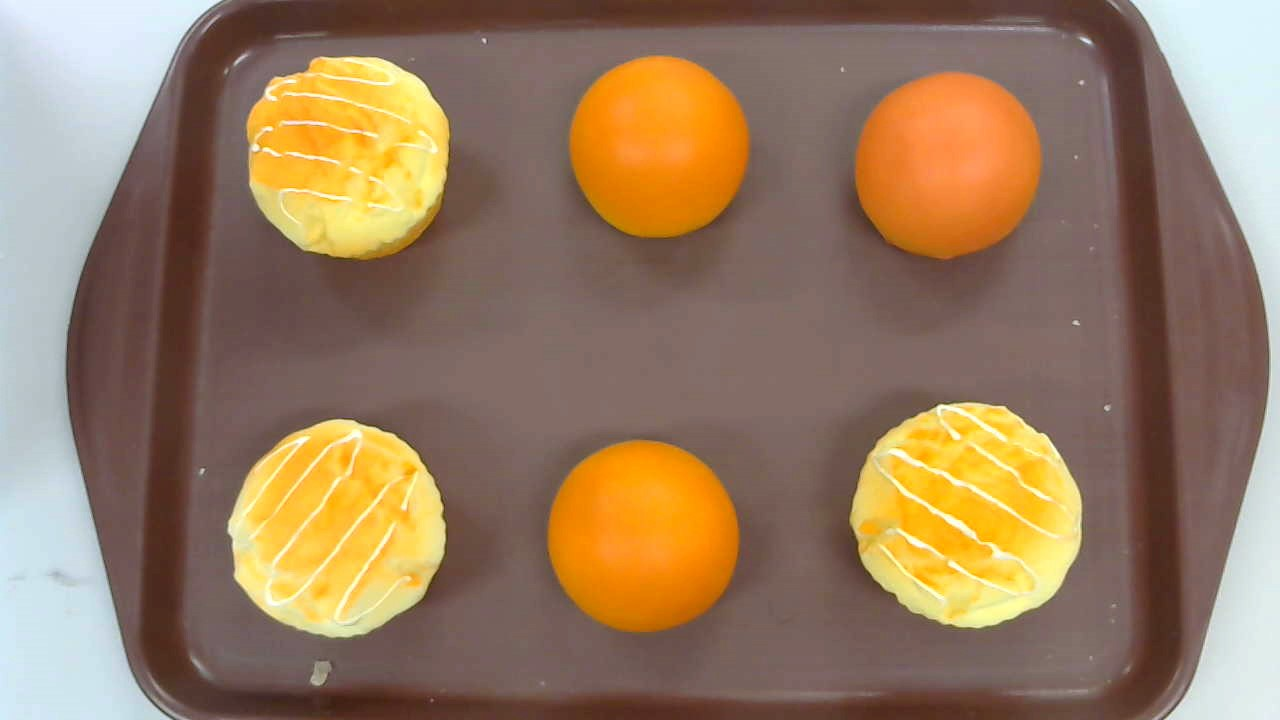bun: (547, 438, 738, 634), (853, 72, 1041, 261), (568, 56, 748, 238)
cupcake: (850, 401, 1081, 630), (226, 418, 446, 639), (247, 53, 450, 261)
